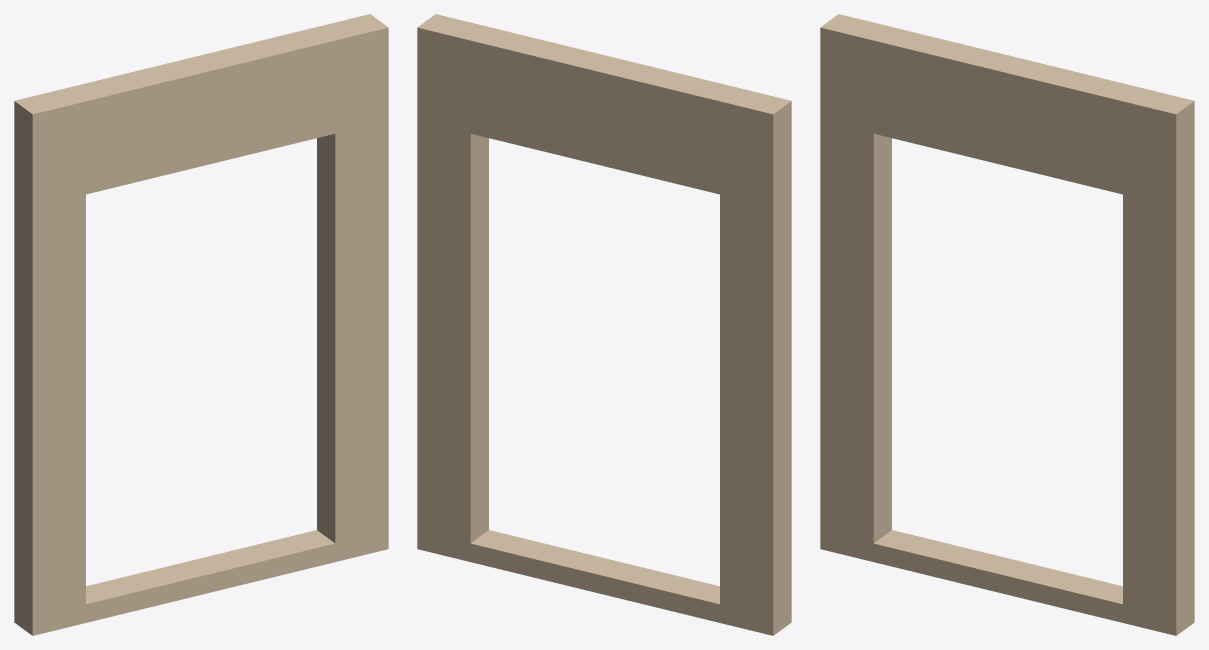
File: SM_Wall_BalconyDoor_2m.fbx
The picture shows the model from 3 angles, left to right: view 1: azimuth 30°, elevation 25°; view 2: azimuth 150°, elevation 25°; view 3: azimuth 330°, elevation 25°; orthographic projection.
Visible parts, largest first — view 1: SM_Wall_BalconyDoor_2m; view 2: SM_Wall_BalconyDoor_2m; view 3: SM_Wall_BalconyDoor_2m.
Part boxes in pixels (x1,y1,x2,y2): SM_Wall_BalconyDoor_2m: (14, 14, 388, 635); SM_Wall_BalconyDoor_2m: (417, 14, 791, 635); SM_Wall_BalconyDoor_2m: (820, 14, 1194, 635).
Bounding box in the file's own units: 2 × 0.18 × 2.8.
